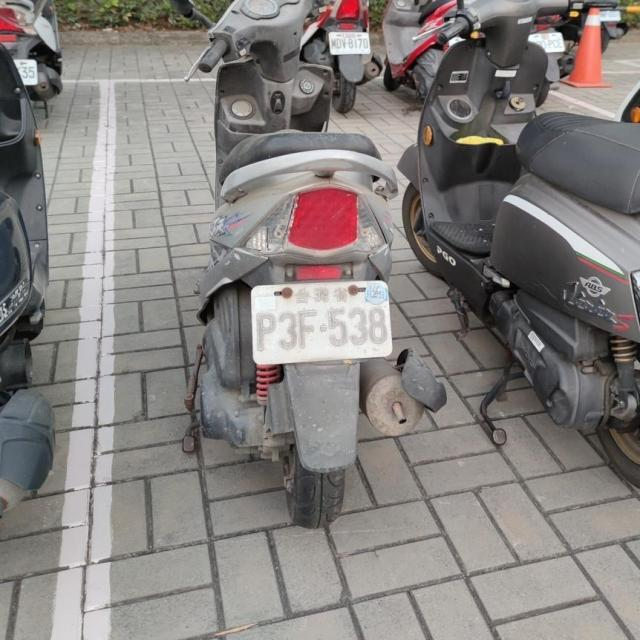W: (246, 276, 398, 368)
